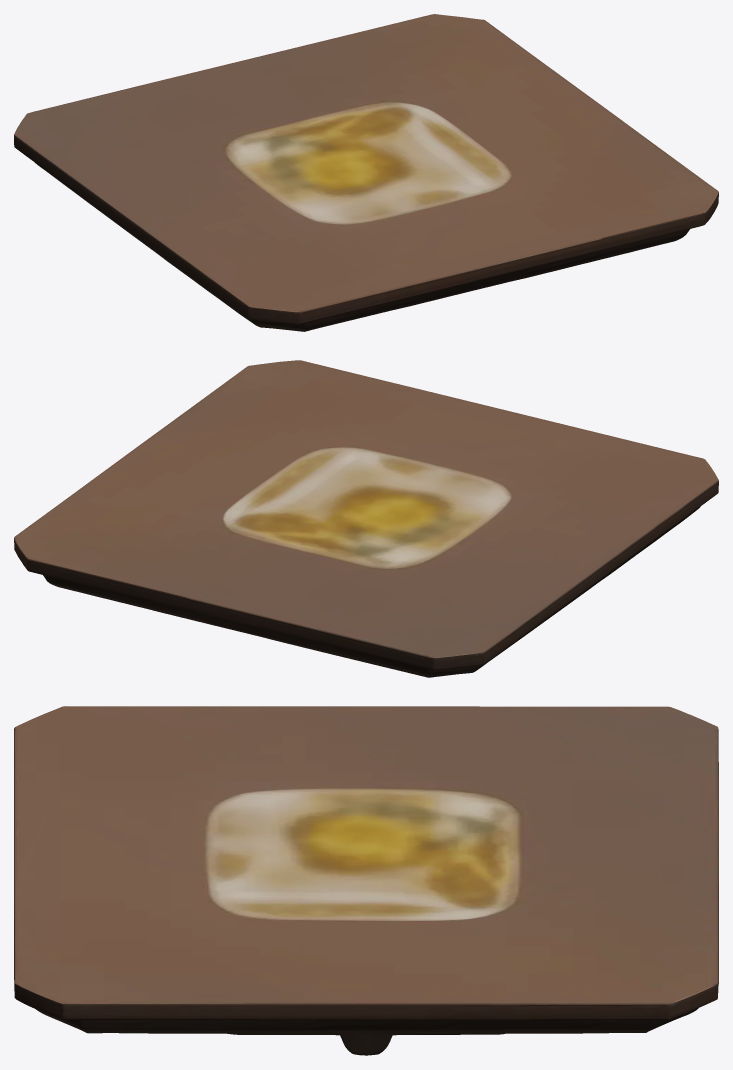
3 renders of one model, top to bottom at view 1: azimuth 30°, elevation 25°; view 2: azimuth 150°, elevation 25°; view 3: azimuth 270°, elevation 25°, orthographic. The views are drawn at different scales.
Visible parts, largest first — view 1: geometry_0; view 2: geometry_0; view 3: geometry_0.
Boxes of the visible parts, x1,y1,x2,y2 form: geometry_0: (14,14,718,331); geometry_0: (14,360,718,677); geometry_0: (14,706,718,1055).
Bounding box in the file's own units: 1 × 0.1988 × 1.
1 material, 1 textured.
